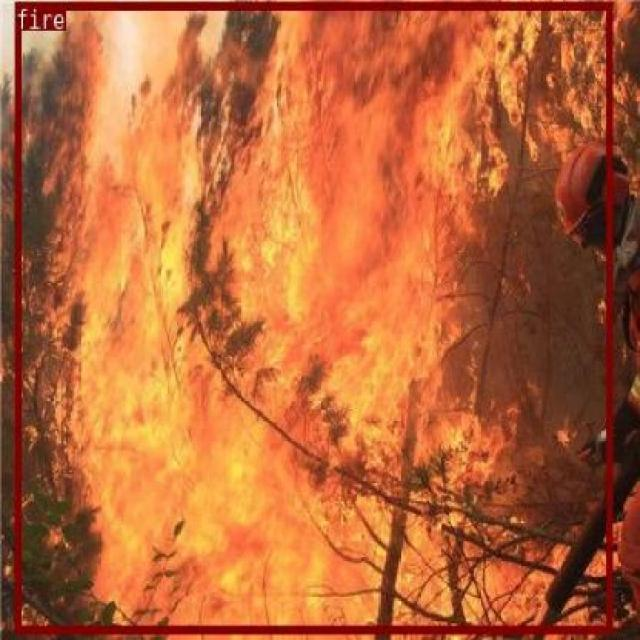Fire: (14, 1, 612, 634)
